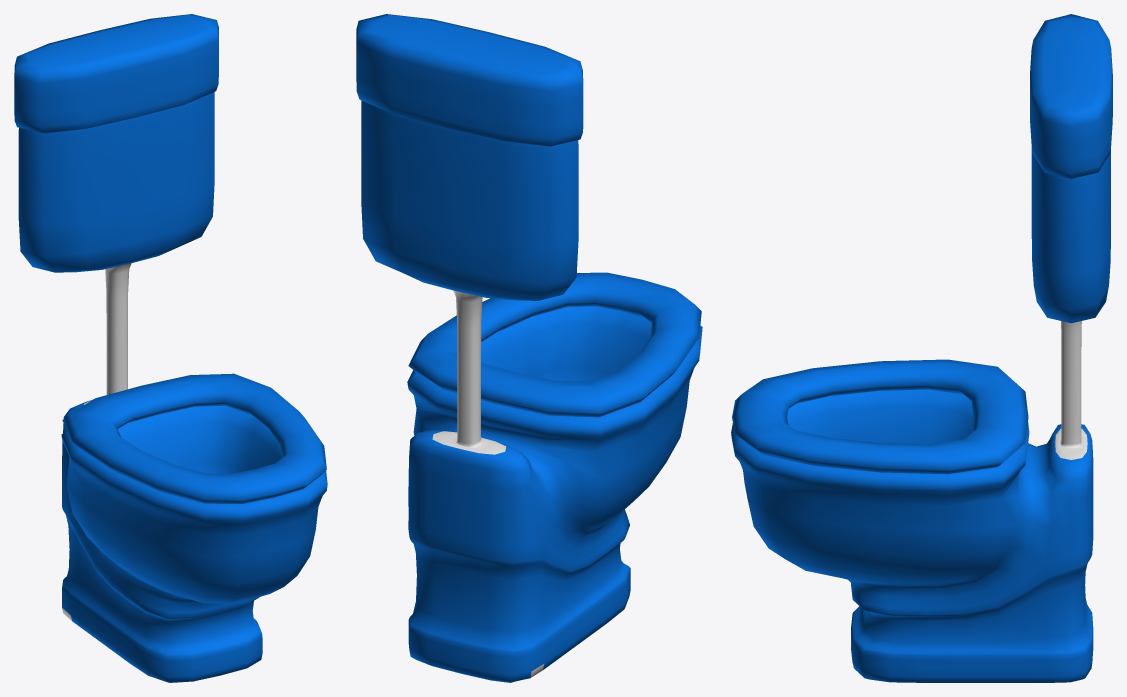
File: Inodoro.fbx
3 renders of one model, left to right at view 1: azimuth 30°, elevation 25°; view 2: azimuth 150°, elevation 25°; view 3: azimuth 270°, elevation 25°, orthographic. The views are drawn at different scales.
Parts seen in each view (by area): view 1: Inodoro; view 2: Inodoro; view 3: Inodoro.
Part boxes in pixels (x1,y1,x2,y2): Inodoro: [14, 14, 327, 682]; Inodoro: [356, 14, 702, 682]; Inodoro: [731, 14, 1112, 682].
Bounding box in the file's own units: 109 × 287 × 166.
